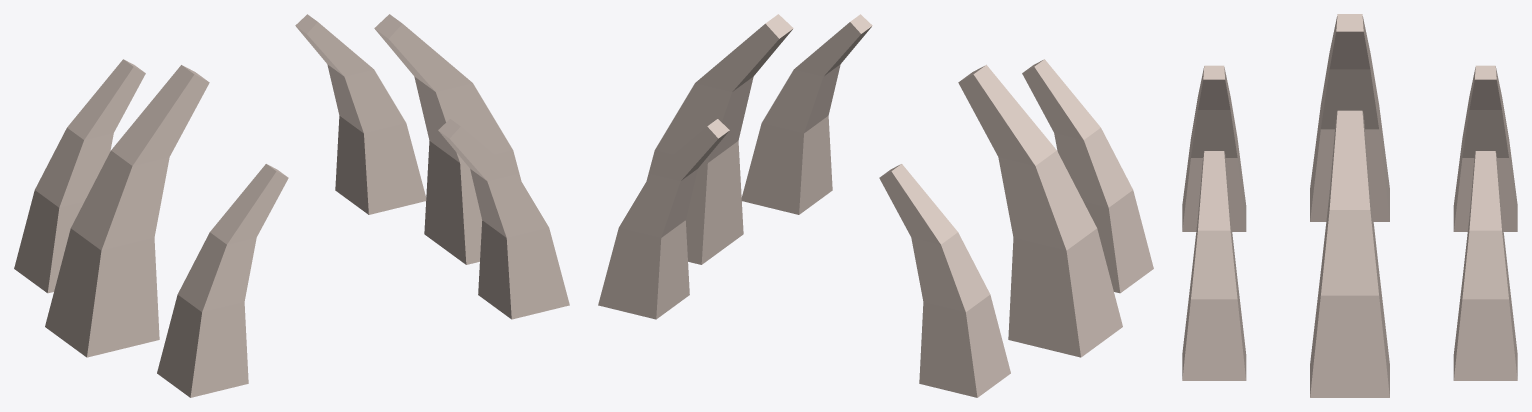
The model's file is bones.glb.
The picture shows the model from 3 angles, left to right: view 1: azimuth 30°, elevation 25°; view 2: azimuth 150°, elevation 25°; view 3: azimuth 270°, elevation 25°; orthographic projection. The views are drawn at different scales.
Parts seen in each view (by area): view 1: bones; view 2: bones; view 3: bones.
Boxes of the visible parts, x1,y1,x2,y2 form: bones: (14, 14, 569, 397); bones: (598, 14, 1153, 397); bones: (1182, 14, 1517, 397).
Bounding box in the file's own units: 0.8614 × 0.4422 × 0.5821.
